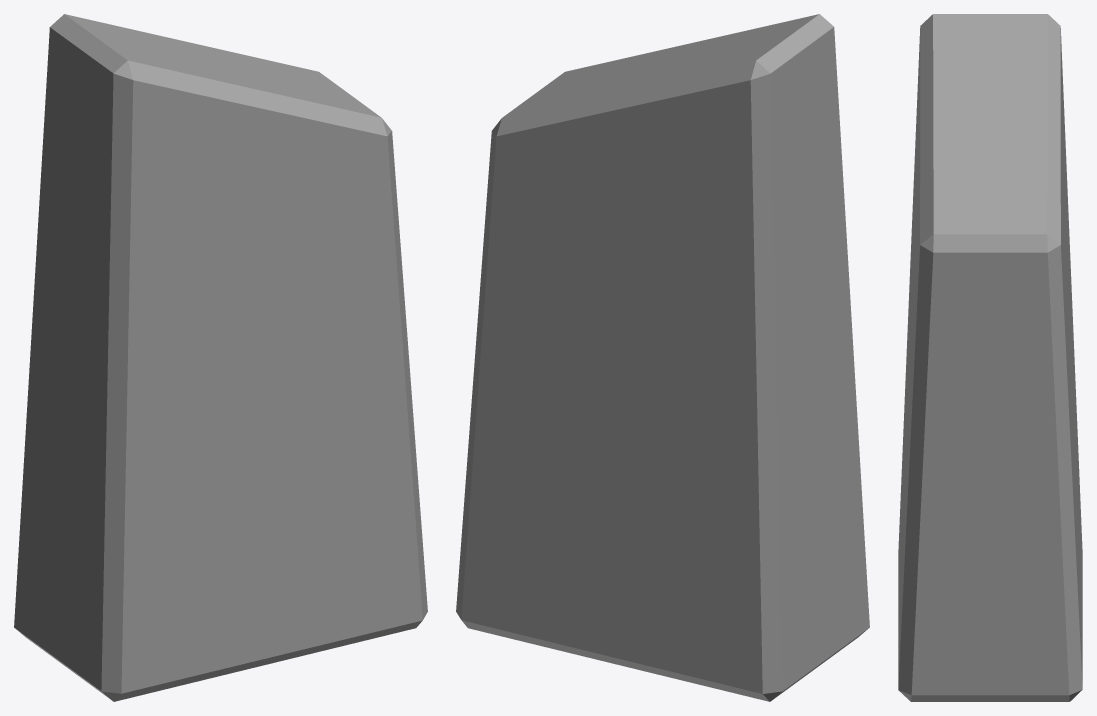
Rendered from Isl_5_Stone_6.fbx.
3 renders of one model, left to right at view 1: azimuth 30°, elevation 25°; view 2: azimuth 150°, elevation 25°; view 3: azimuth 270°, elevation 25°, orthographic. The views are drawn at different scales.
Visible parts, largest first — view 1: Isl_5_Stone_6; view 2: Isl_5_Stone_6; view 3: Isl_5_Stone_6.
Part boxes in pixels (x1,y1,x2,y2): Isl_5_Stone_6: (14, 14, 427, 701); Isl_5_Stone_6: (456, 14, 869, 701); Isl_5_Stone_6: (898, 14, 1082, 701).
Size of the model in its own units: 113 by 61.38 by 208.
1 material, 1 textured.
